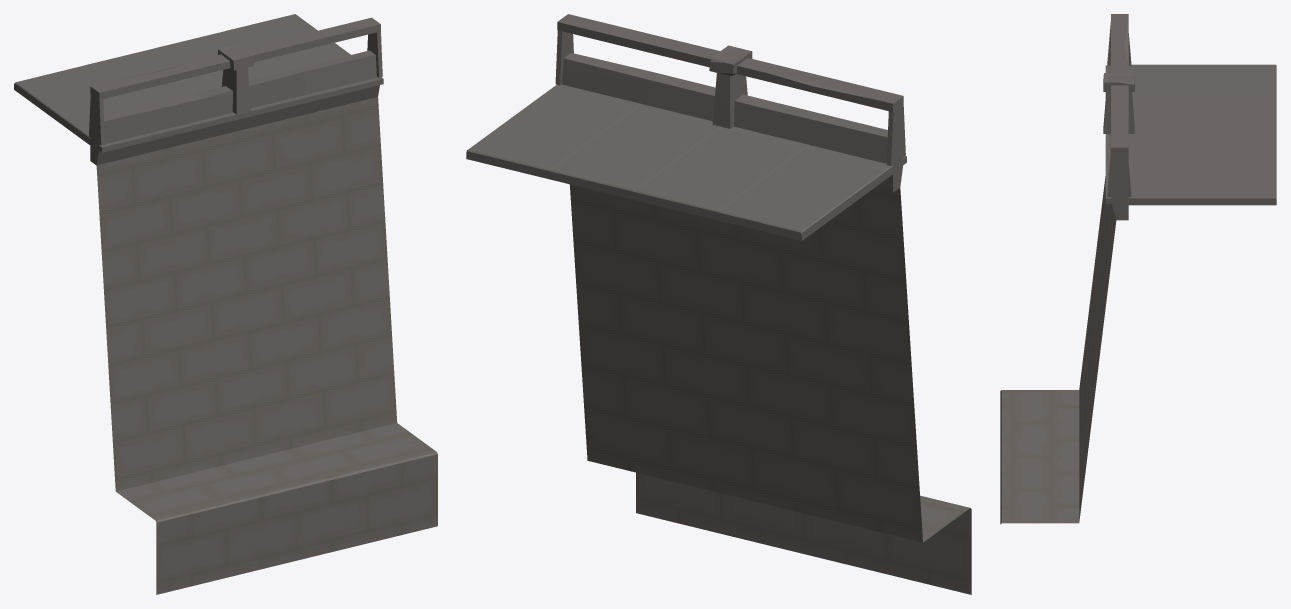
File: NS_River_Wall.fbx
3 renders of one model, left to right at view 1: azimuth 30°, elevation 25°; view 2: azimuth 150°, elevation 25°; view 3: azimuth 270°, elevation 25°, orthographic. The views are drawn at different scales.
Visible parts, largest first — view 1: NS_River_Wall; view 2: NS_River_Wall; view 3: NS_River_Wall.
Part boxes in pixels (bbox=[...]): NS_River_Wall: bbox=[14, 14, 437, 594]; NS_River_Wall: bbox=[466, 14, 971, 594]; NS_River_Wall: bbox=[1000, 14, 1276, 524].
Bounding box in the file's own units: 800 × 1258 × 700.
